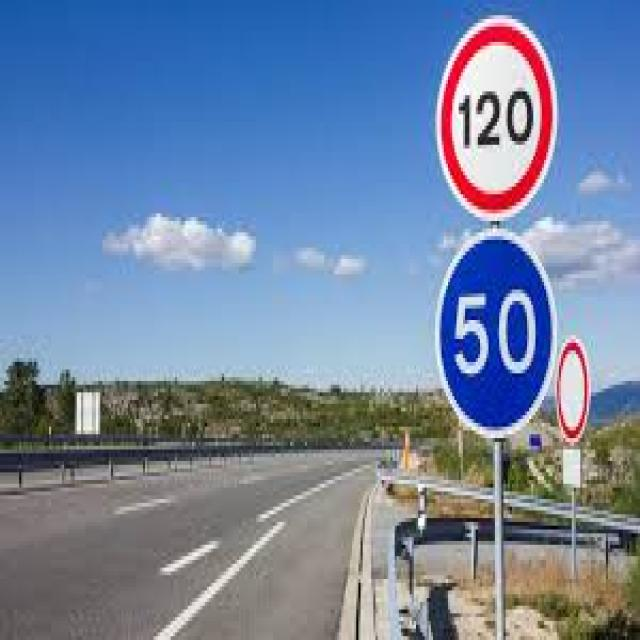Speed limit 50: (434, 227, 560, 436)
